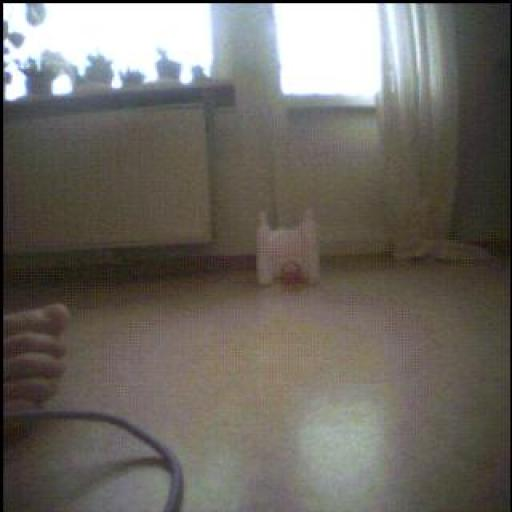Basket: (279, 262, 309, 288)
